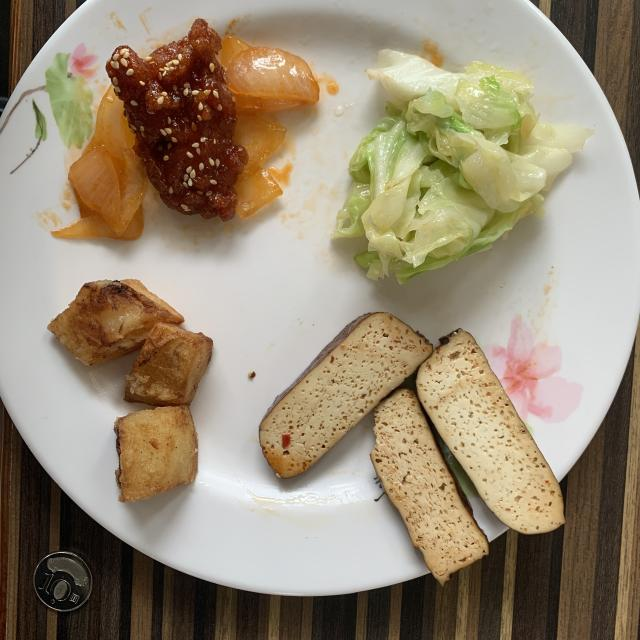cabbage: (334, 50, 590, 281)
coin: (34, 551, 92, 611)
firm tofu: (259, 312, 562, 584)
fried potato: (48, 280, 212, 502)
